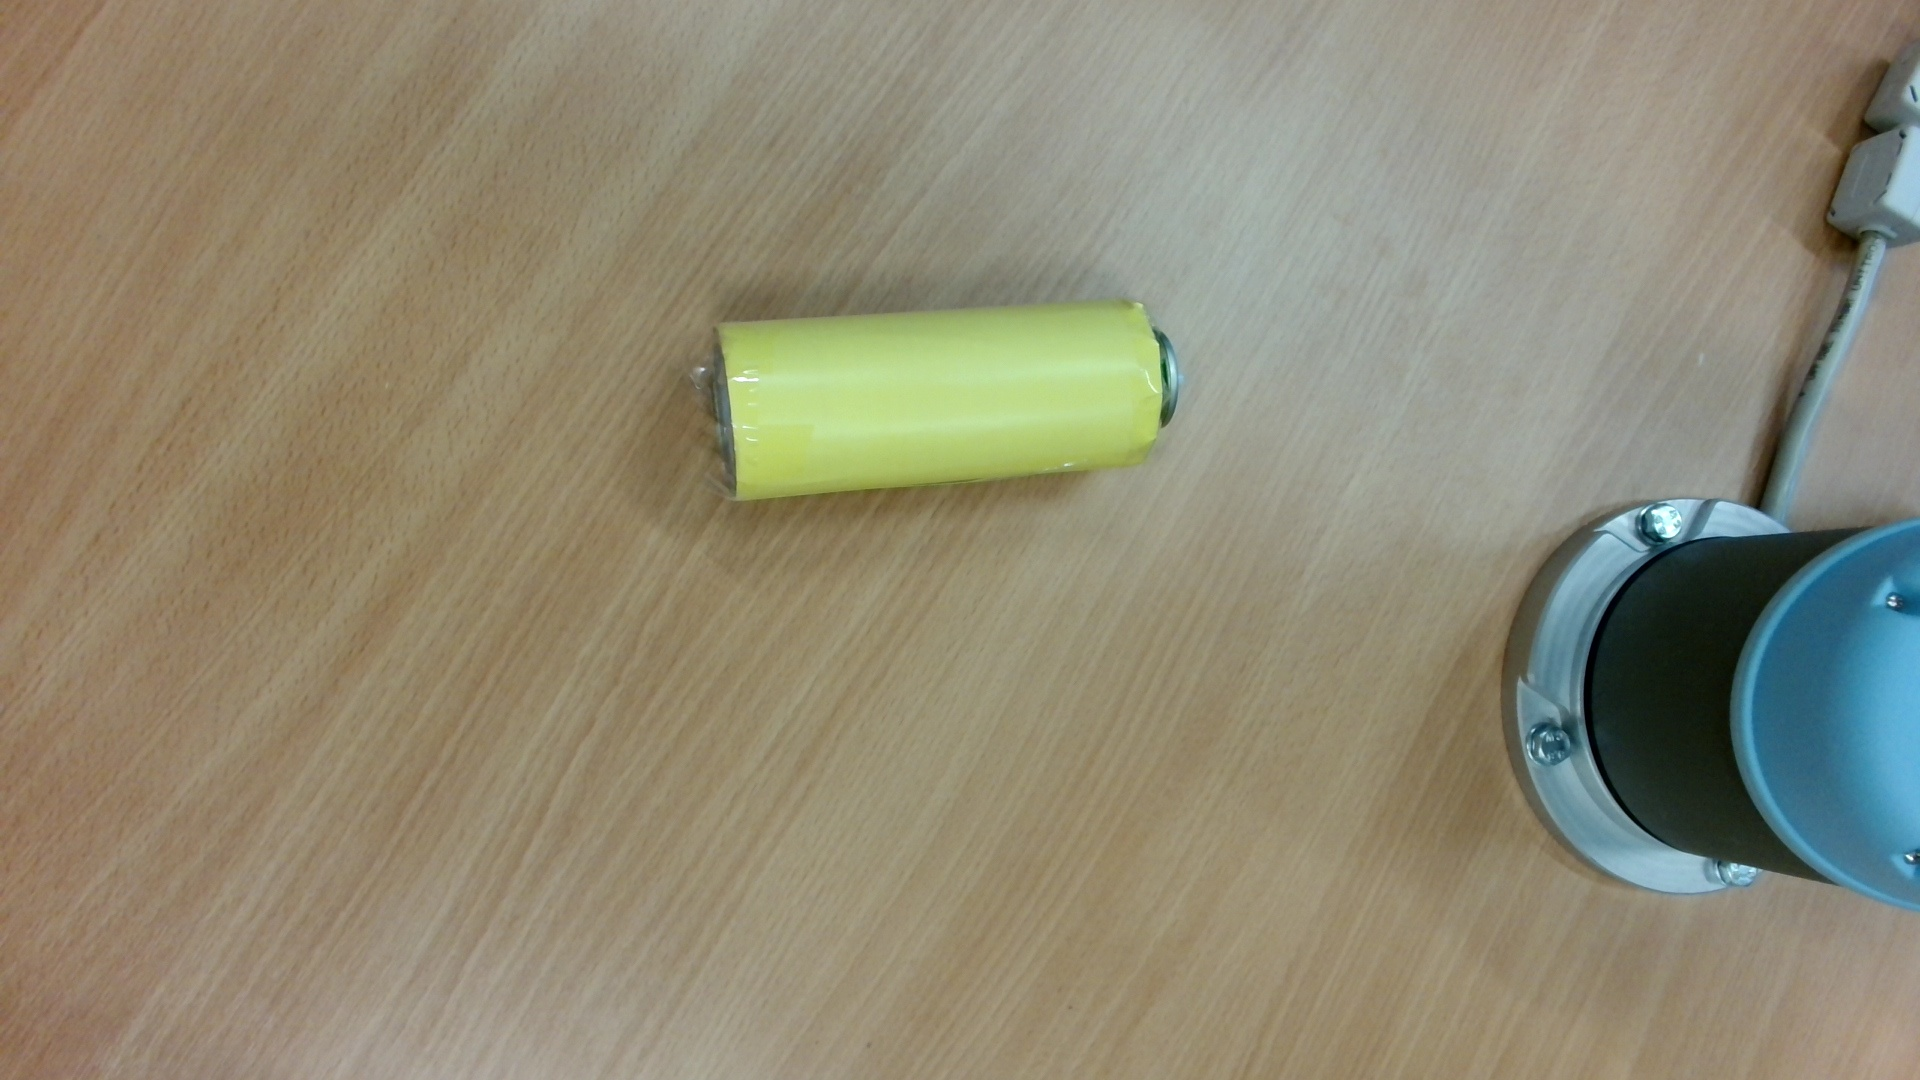Cylinder: (692, 289, 1204, 509)
